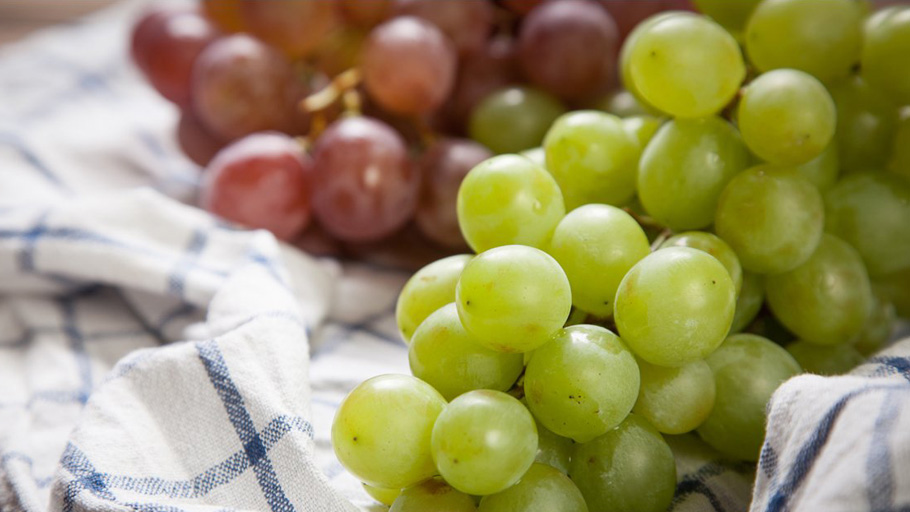Green grapes: (343, 86, 852, 512)
